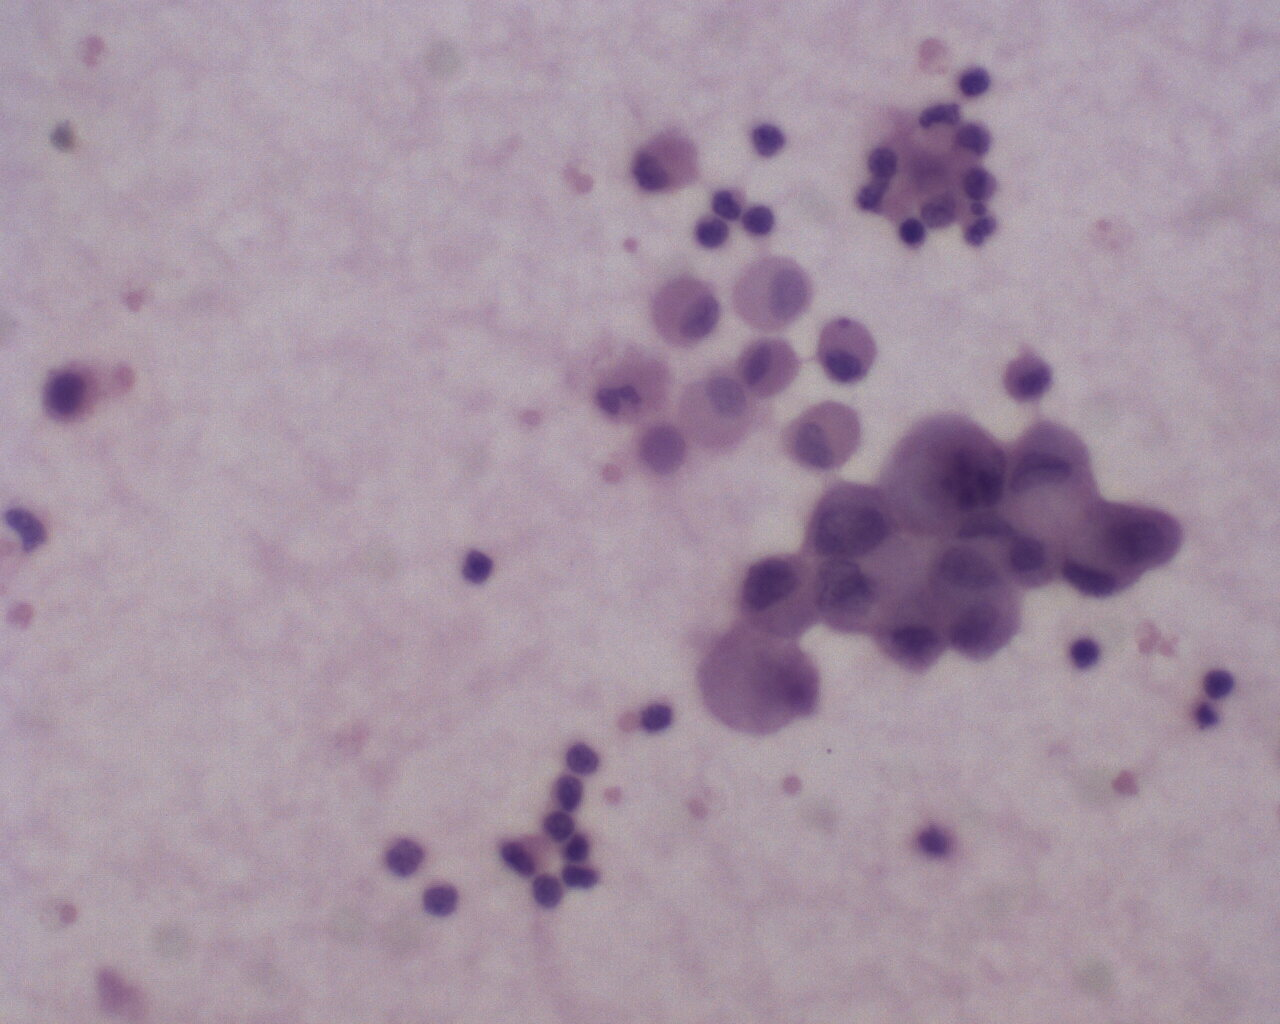ab: (885, 408, 1009, 536), (802, 473, 905, 565), (1106, 499, 1184, 578), (950, 585, 1026, 664)
lymph: (563, 736, 607, 778), (1197, 664, 1239, 701), (539, 808, 576, 844), (1070, 634, 1104, 673)
meso: (673, 368, 757, 451), (650, 272, 726, 349), (817, 312, 880, 388), (734, 336, 806, 399)
